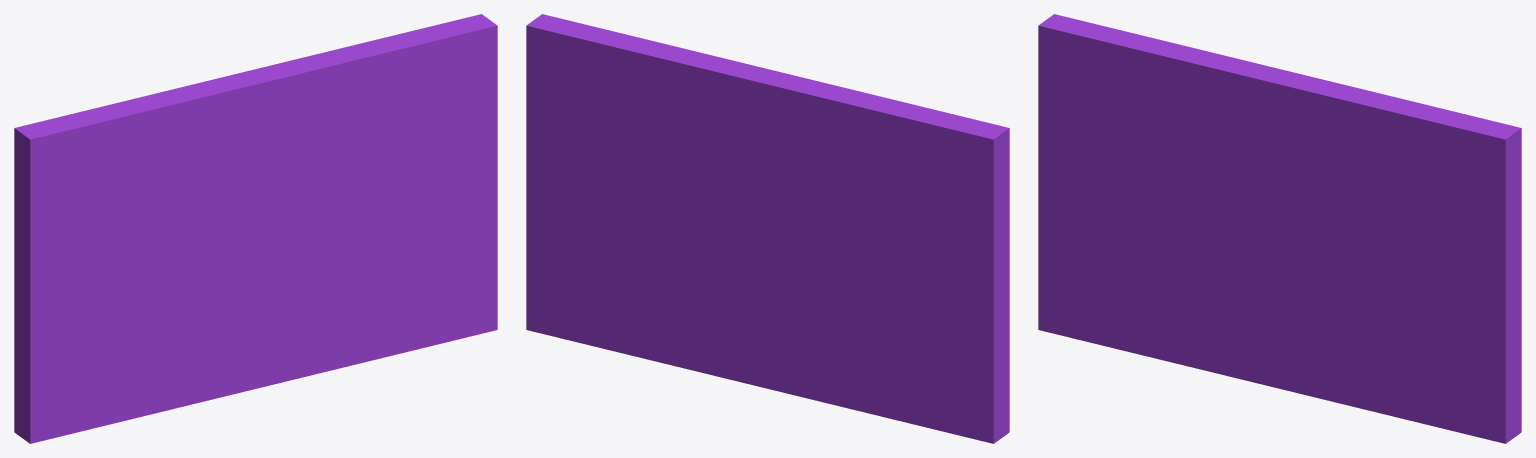
Rendered from Barrier_78_chunks.fbx.
3 renders of one model, left to right at view 1: azimuth 30°, elevation 25°; view 2: azimuth 150°, elevation 25°; view 3: azimuth 330°, elevation 25°, orthographic.
Parts seen in each view (by area): view 1: Barrier_78_0, Barrier_78_2, Barrier_78_4, Barrier_78_3, Barrier_78_8, Barrier_78_6, Barrier_78_7, Barrier_78_5; view 2: Barrier_78_0, Barrier_78_2, Barrier_78_1, Barrier_78_5, Barrier_78_3, Barrier_78_8, Barrier_78_6, Barrier_78_9, Barrier_78_4; view 3: Barrier_78_0, Barrier_78_2, Barrier_78_4, Barrier_78_3, Barrier_78_8, Barrier_78_6, Barrier_78_7, Barrier_78_5.
Part boxes in pixels (bbox=[...]): Barrier_78_0: bbox=[14, 111, 259, 443]; Barrier_78_2: bbox=[245, 82, 497, 391]; Barrier_78_4: bbox=[320, 18, 497, 182]; Barrier_78_3: bbox=[118, 128, 333, 228]; Barrier_78_8: bbox=[232, 38, 405, 129]; Barrier_78_6: bbox=[83, 75, 243, 132]; Barrier_78_7: bbox=[213, 99, 324, 138]; Barrier_78_5: bbox=[383, 14, 486, 40]; Barrier_78_0: bbox=[771, 109, 1009, 443]; Barrier_78_2: bbox=[526, 100, 701, 362]; Barrier_78_1: bbox=[661, 208, 801, 396]; Barrier_78_5: bbox=[526, 21, 703, 193]; Barrier_78_3: bbox=[679, 125, 920, 230]; Barrier_78_8: bbox=[619, 37, 796, 109]; Barrier_78_6: bbox=[775, 76, 932, 131]; Barrier_78_9: bbox=[680, 96, 799, 136]; Barrier_78_4: bbox=[532, 14, 635, 40]; Barrier_78_0: bbox=[1038, 14, 1268, 382]; Barrier_78_2: bbox=[1254, 196, 1521, 443]; Barrier_78_4: bbox=[1328, 113, 1518, 216]; Barrier_78_3: bbox=[1126, 57, 1341, 226]; Barrier_78_8: bbox=[1250, 67, 1428, 160]; Barrier_78_6: bbox=[1115, 31, 1270, 107]; Barrier_78_7: bbox=[1221, 90, 1332, 165]; Barrier_78_5: bbox=[1422, 104, 1521, 201].
Size of the model in its own units: 462 by 288 by 27.2.
